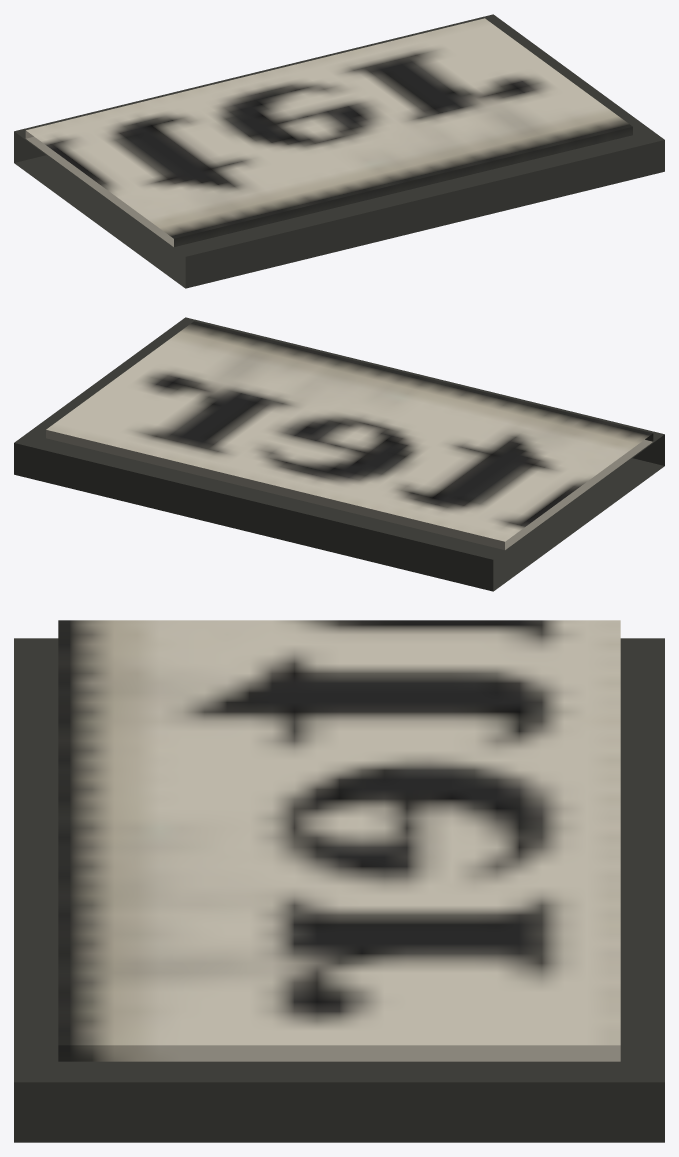
File: section-1.obj
3 renders of one model, top to bottom at view 1: azimuth 30°, elevation 25°; view 2: azimuth 150°, elevation 25°; view 3: azimuth 270°, elevation 25°, orthographic. The views are drawn at different scales.
Bounding box in the file's own units: 0.71 × 0.0585 × 0.44.
1 material, 1 textured.
